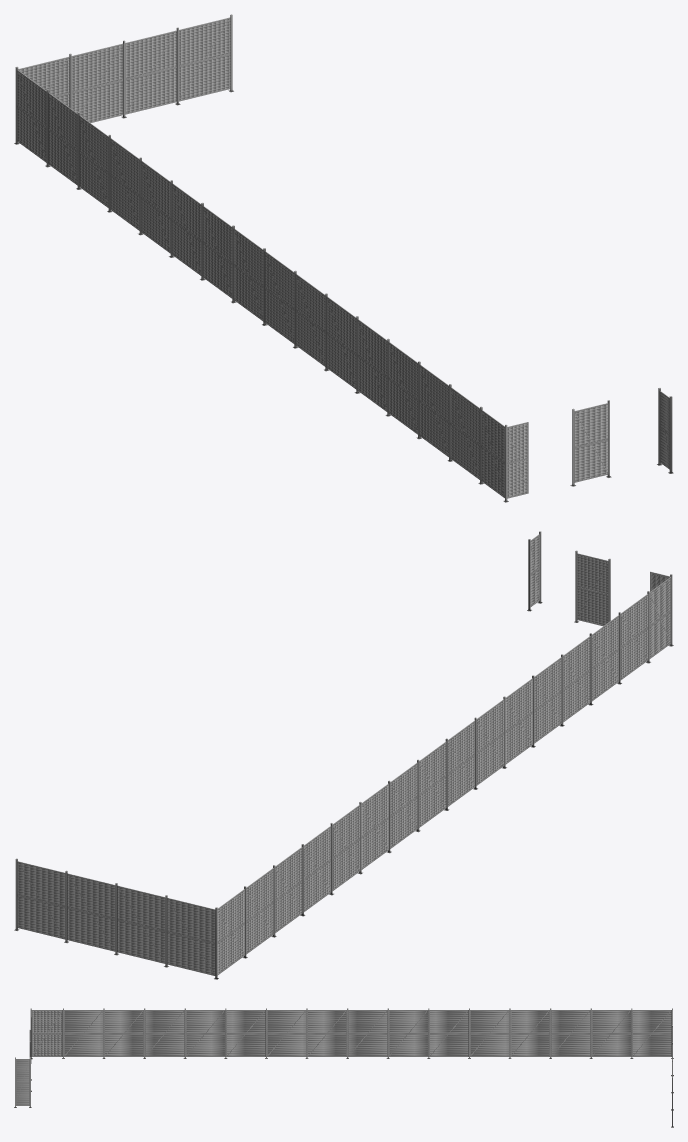
The model's file is SND_weilan.obj.
The picture shows the model from 3 angles, top to bottom: view 1: azimuth 30°, elevation 25°; view 2: azimuth 150°, elevation 25°; view 3: azimuth 270°, elevation 25°; orthographic projection. The views are drawn at different scales.
Parts seen in each view (by area): view 1: object 4, object 2, object 6, object 44, object 18, object 24, object 12, object 30, object 10, object 14, object 16, object 22 (+10 smaller); view 2: object 6, object 2, object 4, object 8, object 44, object 28, object 10, object 30, object 34, object 38, object 12, object 14 (+9 smaller); view 3: object 14, object 24, object 34, object 10, object 12, object 16, object 20, object 22, object 26, object 30, object 32, object 36 (+21 smaller).
Boxes of the visible parts, bbox=[...] form: object 4: bbox=[179, 18, 230, 100]; object 2: bbox=[126, 31, 176, 113]; object 6: bbox=[72, 45, 122, 122]; object 44: bbox=[575, 404, 607, 481]; object 18: bbox=[141, 162, 170, 252]; object 24: bbox=[234, 230, 263, 320]; object 12: bbox=[48, 94, 77, 184]; object 30: bbox=[327, 298, 356, 388]; object 10: bbox=[17, 71, 46, 161]; object 14: bbox=[79, 116, 108, 206]; object 16: bbox=[110, 139, 139, 229]; object 22: bbox=[203, 207, 232, 297]; object 6: bbox=[117, 887, 164, 962]; object 2: bbox=[67, 874, 114, 950]; object 4: bbox=[18, 862, 65, 938]; object 8: bbox=[167, 899, 214, 975]; object 44: bbox=[577, 554, 608, 625]; object 28: bbox=[476, 700, 503, 784]; object 10: bbox=[217, 890, 244, 974]; object 30: bbox=[505, 679, 532, 763]; object 34: bbox=[563, 637, 590, 721]; object 38: bbox=[620, 595, 647, 679]; object 12: bbox=[246, 869, 273, 953]; object 14: bbox=[275, 848, 302, 932]; object 14: bbox=[551, 1010, 590, 1056]; object 24: bbox=[348, 1010, 387, 1056]; object 34: bbox=[145, 1010, 184, 1056]; object 10: bbox=[633, 1010, 671, 1056]; object 12: bbox=[592, 1010, 630, 1056]; object 16: bbox=[511, 1010, 549, 1056]; object 20: bbox=[430, 1010, 468, 1056]; object 22: bbox=[389, 1010, 427, 1056]; object 26: bbox=[308, 1010, 346, 1056]; object 30: bbox=[227, 1010, 265, 1056]; object 32: bbox=[186, 1010, 224, 1056]; object 36: bbox=[105, 1010, 143, 1056].
Bounding box in the file's own units: 7370 × 2465 × 29423.
2 materials, 2 textured.
